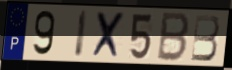5: (128, 12, 155, 61)
9: (32, 9, 57, 56)
B: (155, 11, 192, 64), (190, 14, 221, 63)
I: (73, 9, 90, 60)
X: (91, 10, 128, 60)
